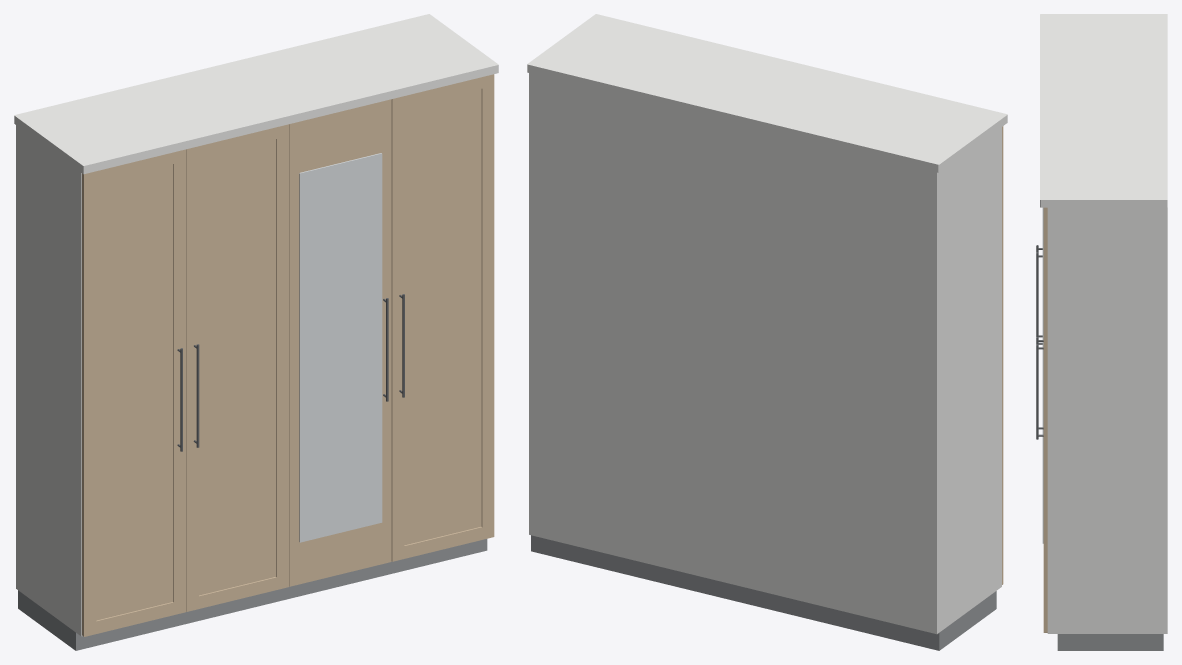
The picture shows the model from 3 angles, left to right: view 1: azimuth 30°, elevation 25°; view 2: azimuth 150°, elevation 25°; view 3: azimuth 270°, elevation 25°; orthographic projection. The views are drawn at different scales.
Visible parts, largest first — view 1: Tủ áo cánh mở Chiều rộng=2100; Chiều sâu=600; view 2: Tủ áo cánh mở Chiều rộng=2100; Chiều sâu=600; view 3: Tủ áo cánh mở Chiều rộng=2100; Chiều sâu=600.
Part boxes in pixels (<box>): Tủ áo cánh mở Chiều rộng=2100; Chiều sâu=600: <box>14,14,498,650</box>; Tủ áo cánh mở Chiều rộng=2100; Chiều sâu=600: <box>527,14,1007,650</box>; Tủ áo cánh mở Chiều rộng=2100; Chiều sâu=600: <box>1036,14,1167,650</box>.
Size of the model in its own units: 2.12 by 2.4 by 0.633.
